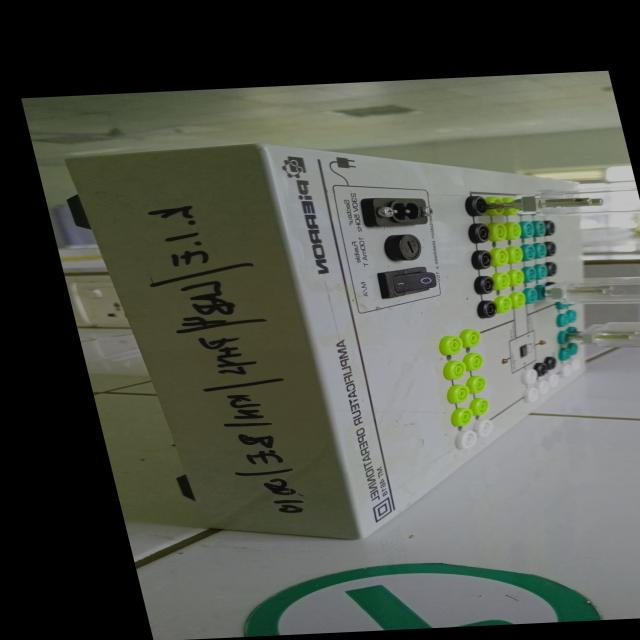Operational Amplifier Board: (58, 115, 640, 559)
